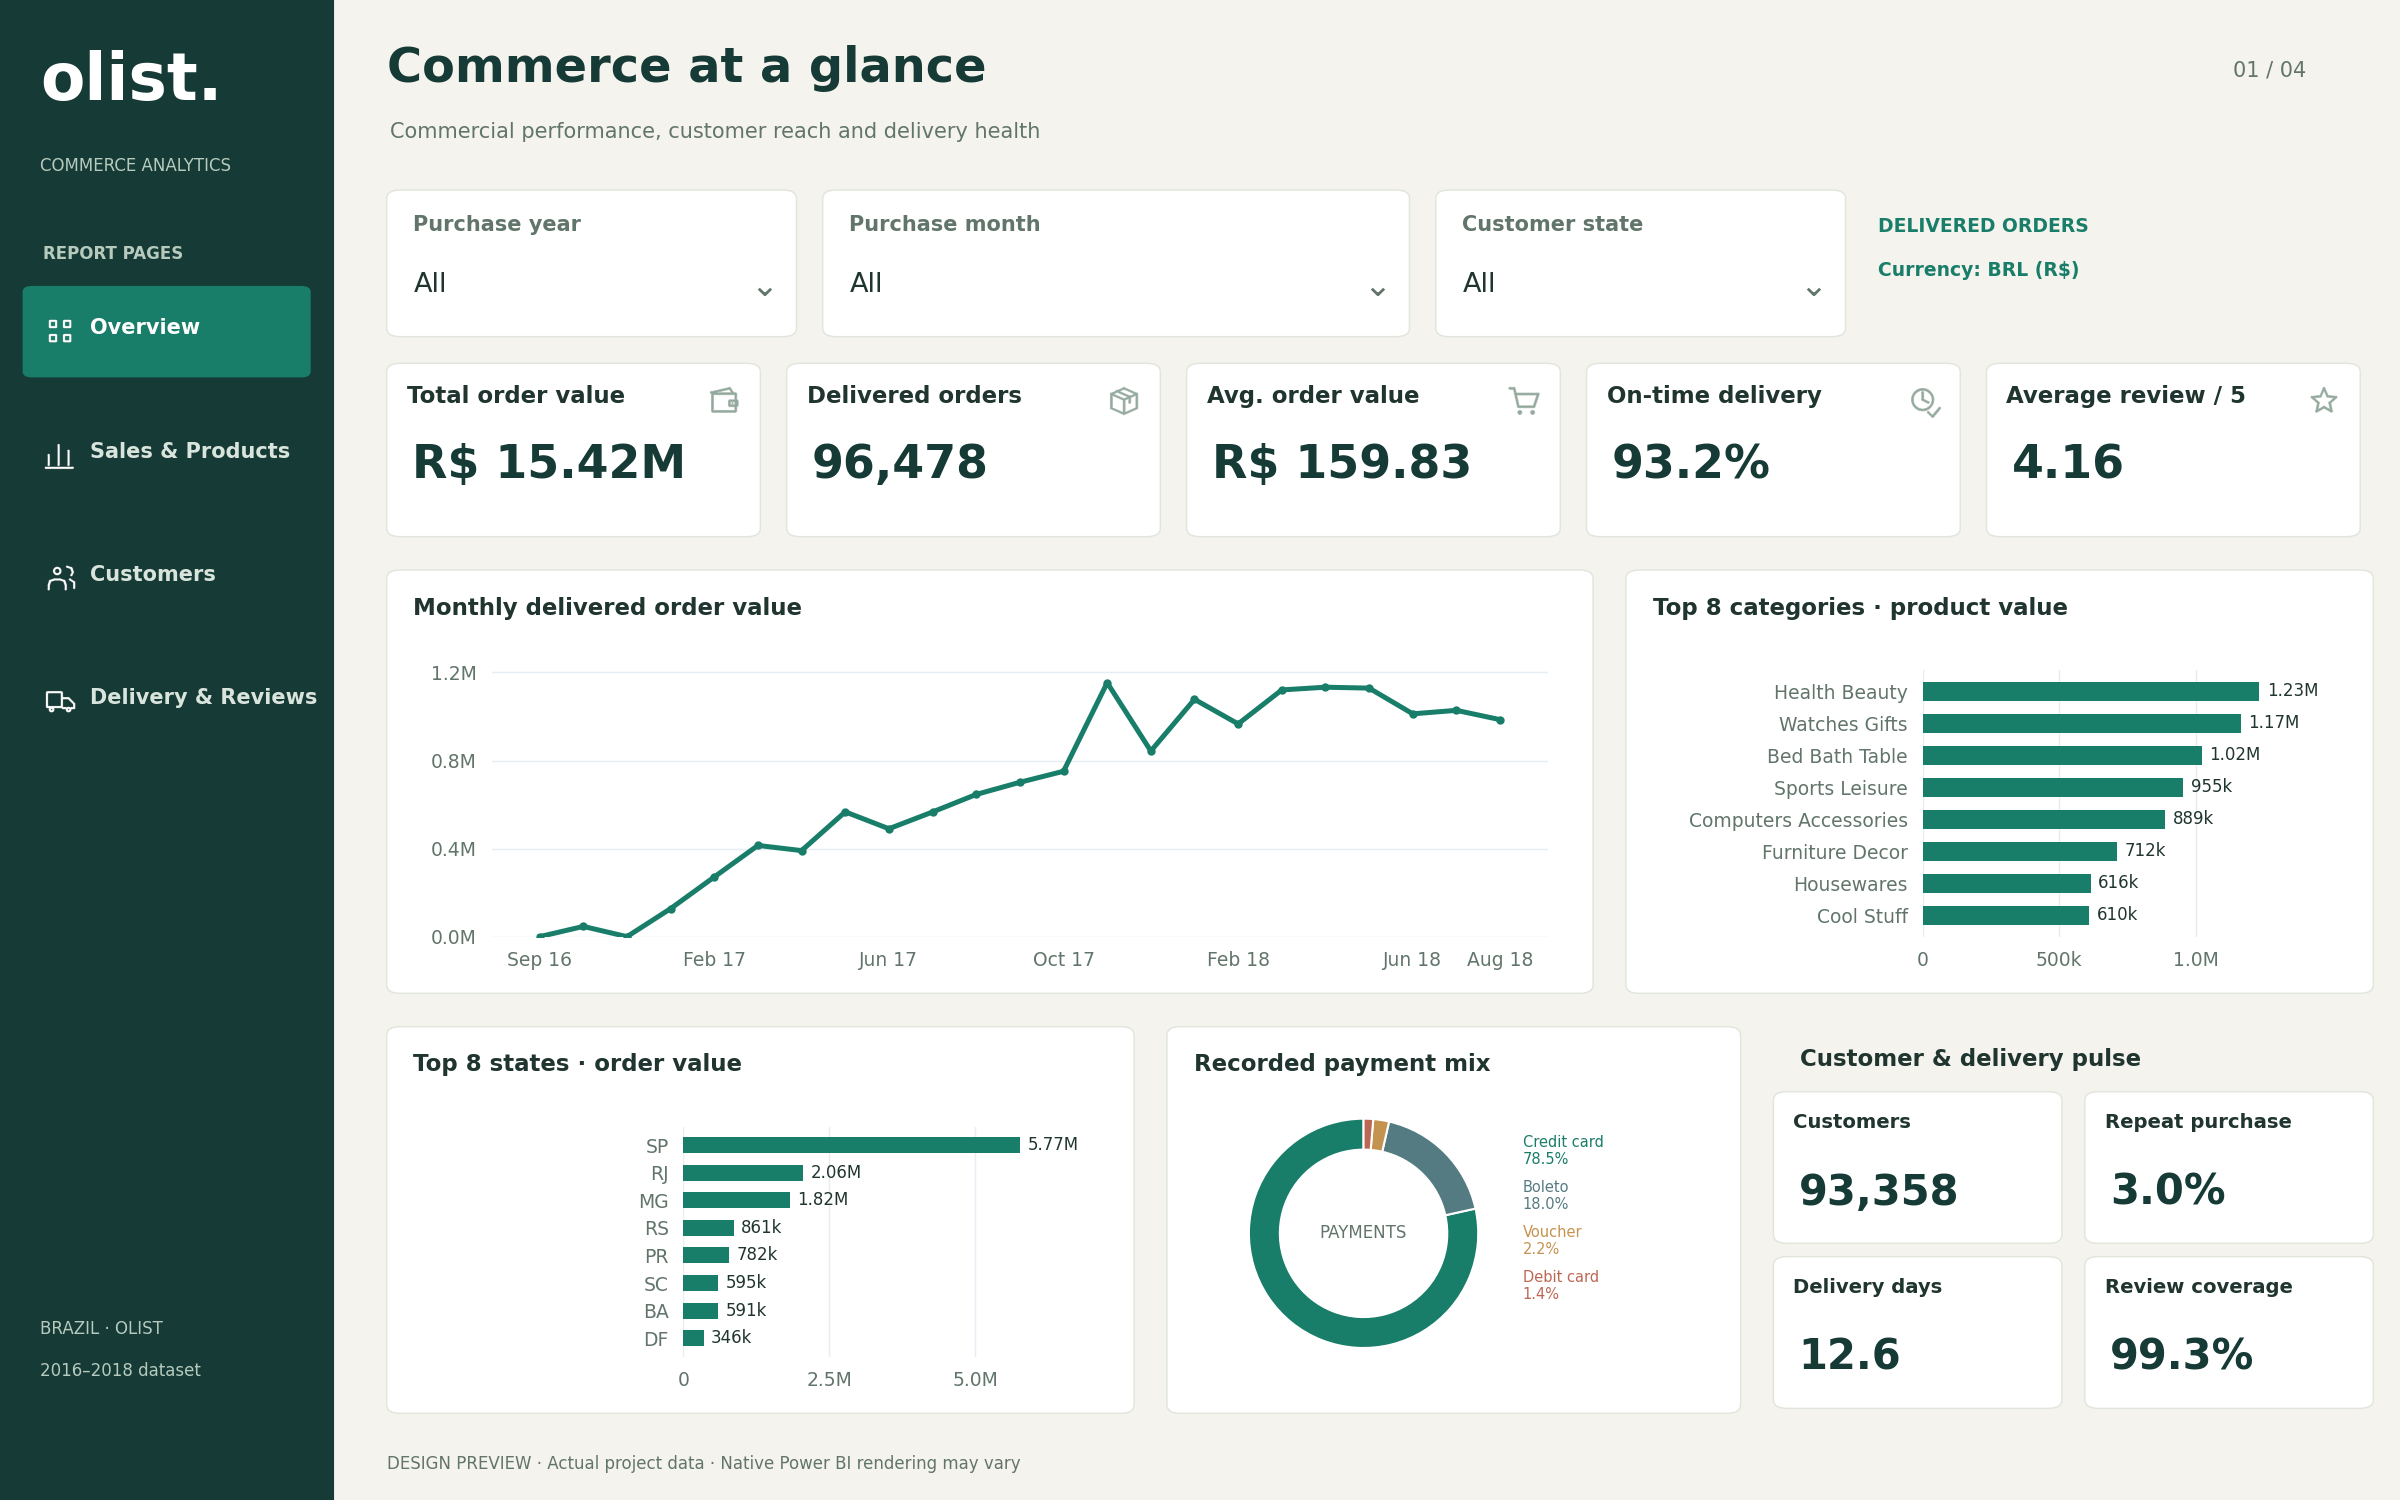

Layout of this report page (visuals, bound fields, positions):
{"tool":"powerbi","page":{"name":"Overview","canvas":[1440,900],"ordinal":0},"visuals":[{"type":"textbox","box":[0,0,200,900],"z":1},{"type":"textbox","box":[24,22,135,68],"z":2},{"type":"textbox","box":[24,94,140,38],"z":3},{"type":"actionButton","box":[14,172,172,54],"z":4},{"type":"actionButton","box":[14,246,172,54],"z":5},{"type":"actionButton","box":[14,320,172,54],"z":6},{"type":"actionButton","box":[14,394,172,54],"z":7},{"type":"textbox","box":[24,790,142,78],"z":8},{"type":"textbox","box":[232,18,1022.8,58],"z":9},{"type":"textbox","box":[234,72,1022.8,36],"z":10},{"type":"slicer","title":"Purchase Year","fields":{"Values":["Date.Year"]},"box":[232,114,245.9,88],"z":11},{"type":"slicer","title":"Purchase Month","fields":{"Values":["Date.Month"]},"box":[493.6,114,352.1,88],"z":12},{"type":"slicer","title":"Customer state","fields":{"Values":["Orders.State"]},"box":[861.4,114,245.9,88],"z":13},{"type":"textbox","box":[1127,114,277.4,88],"z":14},{"type":"textbox","box":[232,854,1172.3,38],"z":15},{"type":"card","fields":{"Values":["Orders.Card · Total Order Value"]},"box":[232,218,224.2,104],"z":16},{"type":"card","fields":{"Values":["Orders.Card · Delivered Orders"]},"box":[472,218,224.2,104],"z":17},{"type":"card","fields":{"Values":["Orders.Card · Average Order Value"]},"box":[712,218,224.2,104],"z":18},{"type":"card","fields":{"Values":["Orders.Card · On-time Rate"]},"box":[951.9,218,224.2,104],"z":19},{"type":"card","fields":{"Values":["Orders.Card · Average Review Score"]},"box":[1191.9,218,224.2,104],"z":20},{"type":"lineChart","title":"Monthly delivered order value","fields":{"Category":["Date.Month Start"],"Y":["Orders.Total Order Value"]},"box":[232,342,723.9,254],"z":21},{"type":"clusteredBarChart","title":"Top 8 categories · product value","fields":{"Category":["Items.Category"],"Y":["Orders.Top Category Revenue"]},"box":[975.5,342,448.5,254],"z":22},{"type":"clusteredBarChart","title":"Top 8 states · order value","fields":{"Category":["Orders.State"],"Y":["Orders.Top State Value"]},"box":[232,616,448.5,232],"z":23},{"type":"donutChart","title":"Recorded payment mix","fields":{"Category":["Payments.Payment Method"],"Y":["Orders.Payment Value"]},"box":[700.1,616,344.2,232],"z":24},{"type":"textbox","box":[1064,616,360,36],"z":25},{"type":"card","title":"Customers","fields":{"Values":["Orders.Card · Customers"]},"box":[1064,655,173.1,91],"z":26},{"type":"card","title":"Repeat purchase","fields":{"Values":["Orders.Card · Repeat Customer Rate"]},"box":[1250.9,655,173.1,91],"z":27},{"type":"card","title":"Delivery days","fields":{"Values":["Orders.Card · Average Delivery Days"]},"box":[1064,754,173.1,91],"z":28},{"type":"card","title":"Review coverage","fields":{"Values":["Orders.Card · Review Coverage"]},"box":[1250.9,754,173.1,91],"z":29},{"type":"textbox","box":[244,231,172.2,26],"z":101},{"type":"image","box":[424.2,231,20,20],"z":102},{"type":"textbox","box":[484,231,172.2,26],"z":103},{"type":"image","box":[664.2,231,20,20],"z":104},{"type":"textbox","box":[724,231,172.2,26],"z":105},{"type":"image","box":[904.2,231,20,20],"z":106},{"type":"textbox","box":[963.9,231,172.2,26],"z":107},{"type":"image","box":[1144.2,231,20,20],"z":108},{"type":"textbox","box":[1203.9,231,172.2,26],"z":109},{"type":"image","box":[1384.1,231,20,20],"z":110},{"type":"textbox","box":[26,147,150,22],"z":111},{"type":"textbox","box":[1340,36,80,26],"z":112}]}

Visuals, with their boxes on the page's 1440x900 design canvas (x1, y1, x2, y2). These are canvas units, not pixel positions in the 2400x1500 screenshot, which may show the page scaled, cropped or inside an application window:
textbox: 0,0,200,900
textbox: 24,22,159,90
textbox: 24,94,164,132
actionButton: 14,172,186,226
actionButton: 14,246,186,300
actionButton: 14,320,186,374
actionButton: 14,394,186,448
textbox: 24,790,166,868
textbox: 232,18,1255,76
textbox: 234,72,1257,108
"Purchase Year" slicer: 232,114,478,202
"Purchase Month" slicer: 494,114,846,202
"Customer state" slicer: 861,114,1107,202
textbox: 1127,114,1404,202
textbox: 232,854,1404,892
card - Orders.Card · Total Order Value: 232,218,456,322
card - Orders.Card · Delivered Orders: 472,218,696,322
card - Orders.Card · Average Order Value: 712,218,936,322
card - Orders.Card · On-time Rate: 952,218,1176,322
card - Orders.Card · Average Review Score: 1192,218,1416,322
"Monthly delivered order value" lineChart: 232,342,956,596
"Top 8 categories · product value" clusteredBarChart: 976,342,1424,596
"Top 8 states · order value" clusteredBarChart: 232,616,680,848
"Recorded payment mix" donutChart: 700,616,1044,848
textbox: 1064,616,1424,652
"Customers" card: 1064,655,1237,746
"Repeat purchase" card: 1251,655,1424,746
"Delivery days" card: 1064,754,1237,845
"Review coverage" card: 1251,754,1424,845
textbox: 244,231,416,257
image: 424,231,444,251
textbox: 484,231,656,257
image: 664,231,684,251
textbox: 724,231,896,257
image: 904,231,924,251
textbox: 964,231,1136,257
image: 1144,231,1164,251
textbox: 1204,231,1376,257
image: 1384,231,1404,251
textbox: 26,147,176,169
textbox: 1340,36,1420,62
